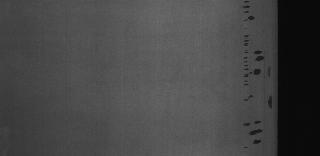oil spot: (242, 2, 254, 108), (238, 116, 264, 146), (250, 47, 268, 80), (264, 92, 274, 110)
